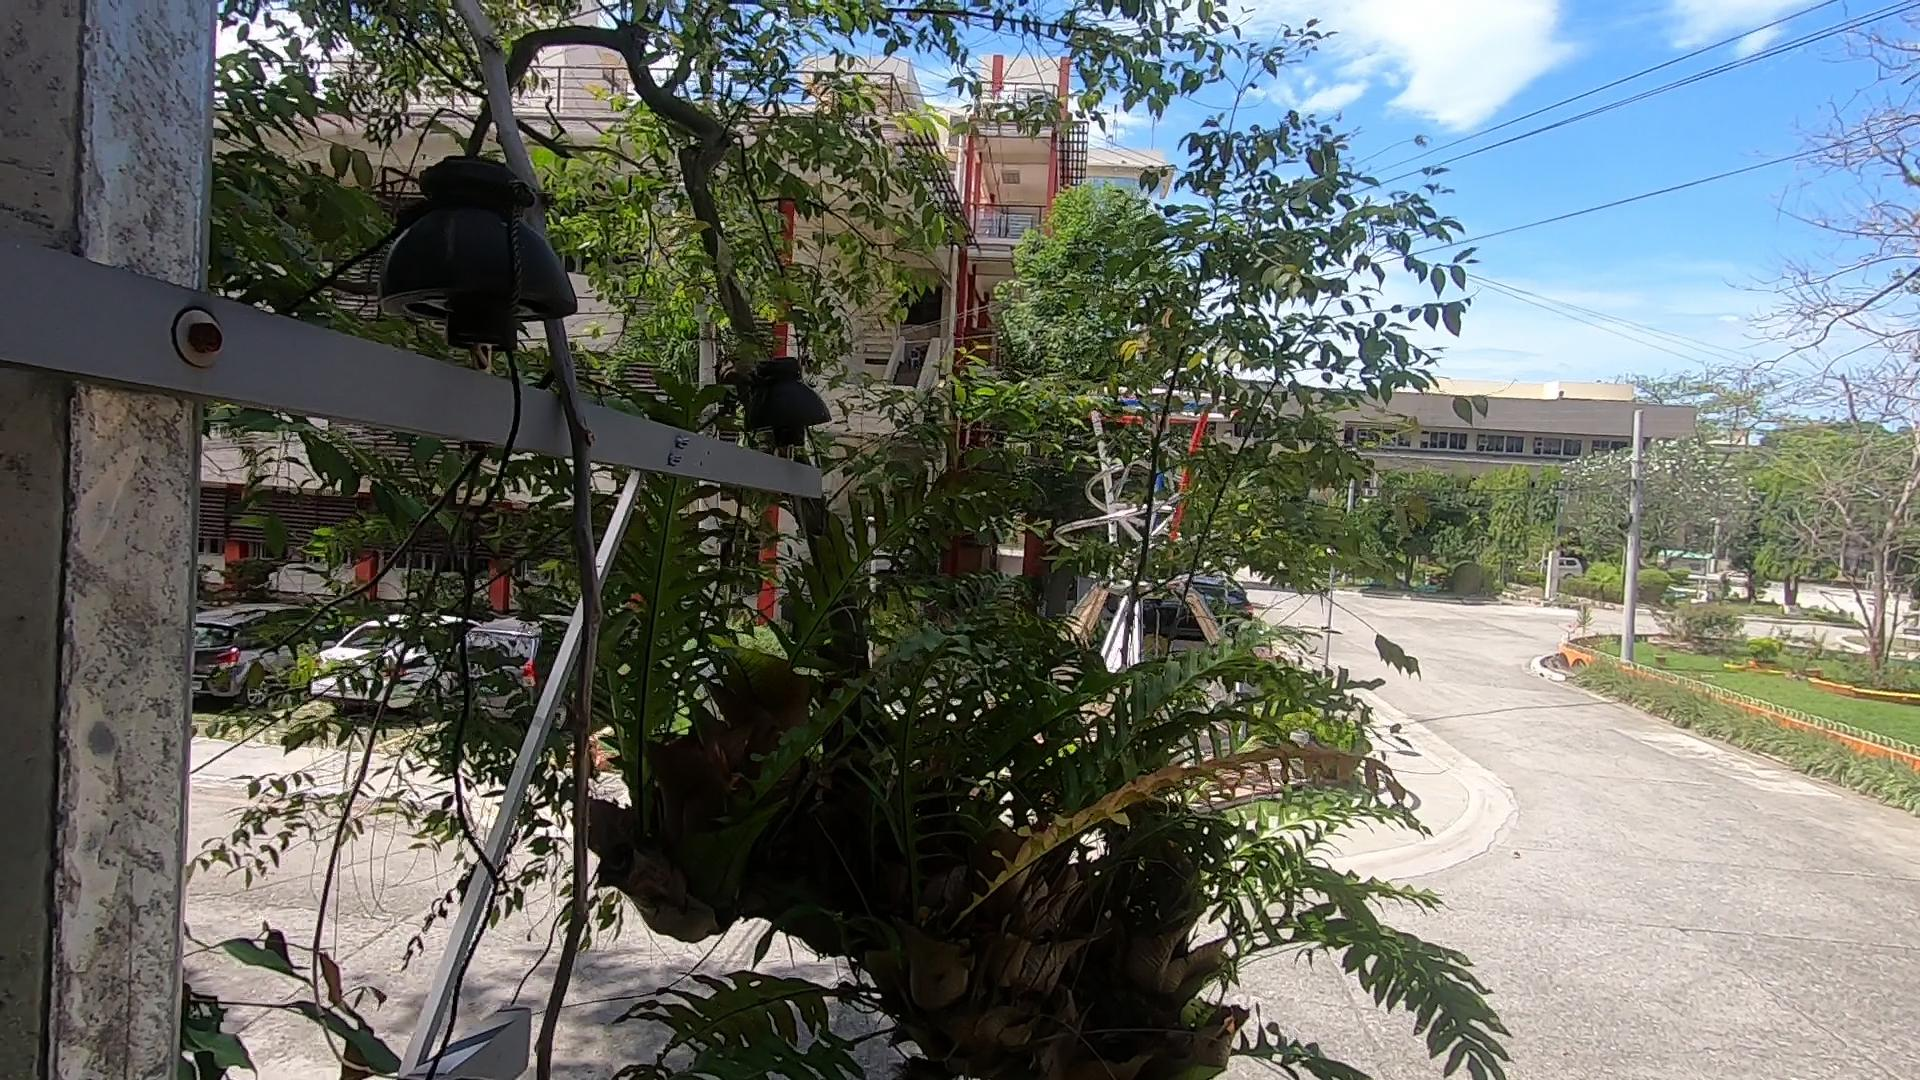tree branch: (371, 1, 670, 1077)
